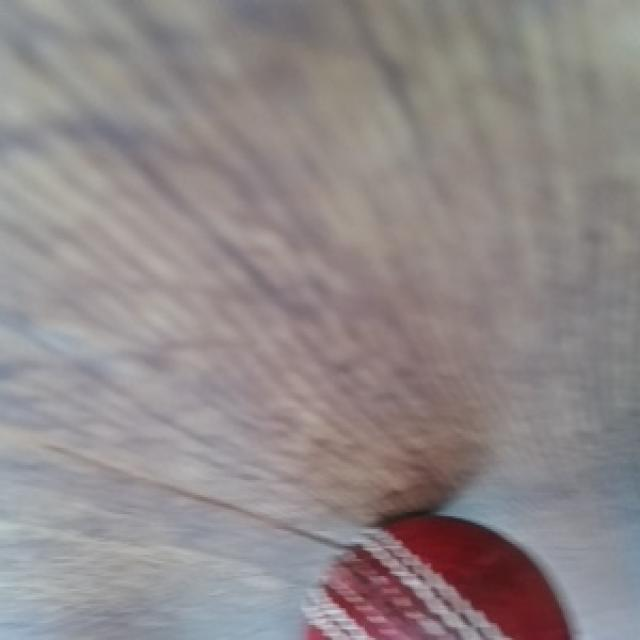ball: (303, 516, 578, 640)
